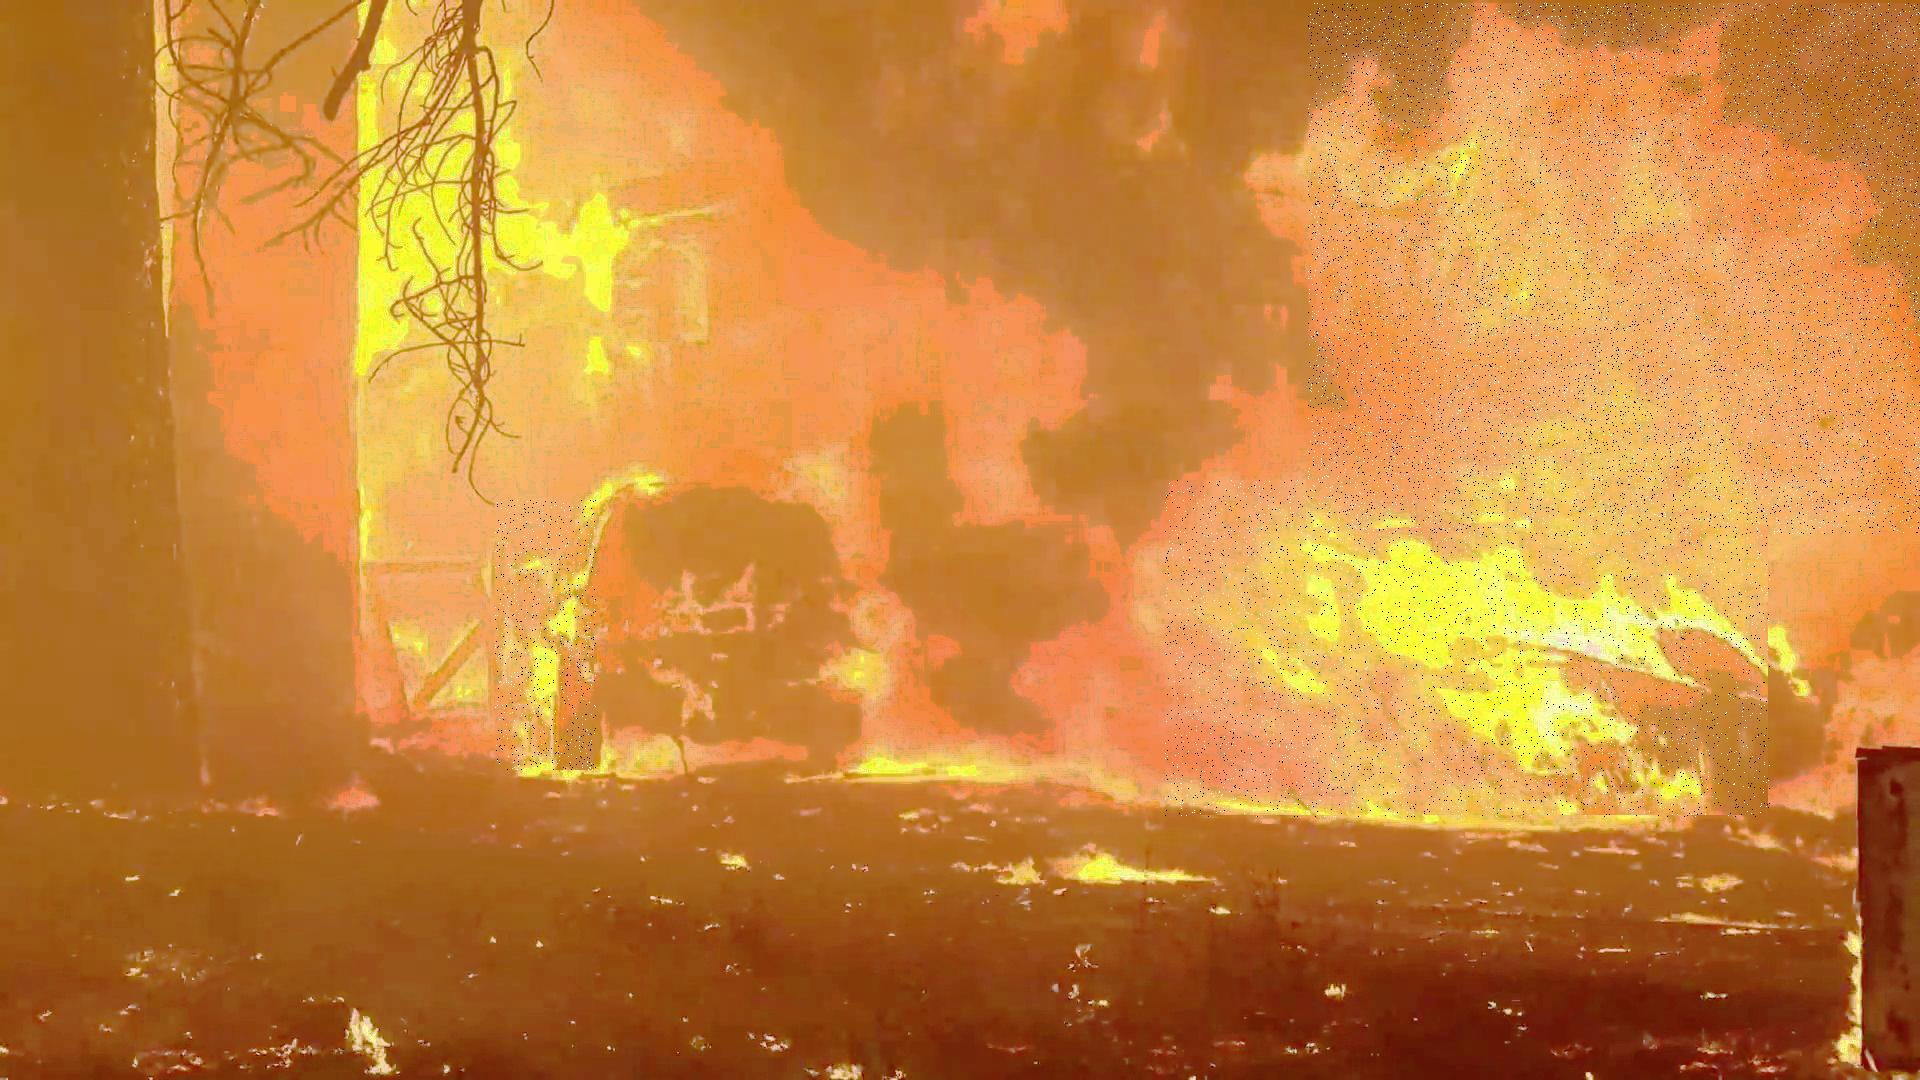fire: (1308, 3, 1920, 534), (1166, 481, 1771, 818), (496, 500, 597, 770)
